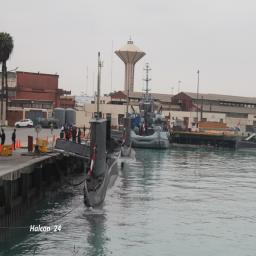submarine: (86, 108, 107, 212), (116, 109, 139, 162)
